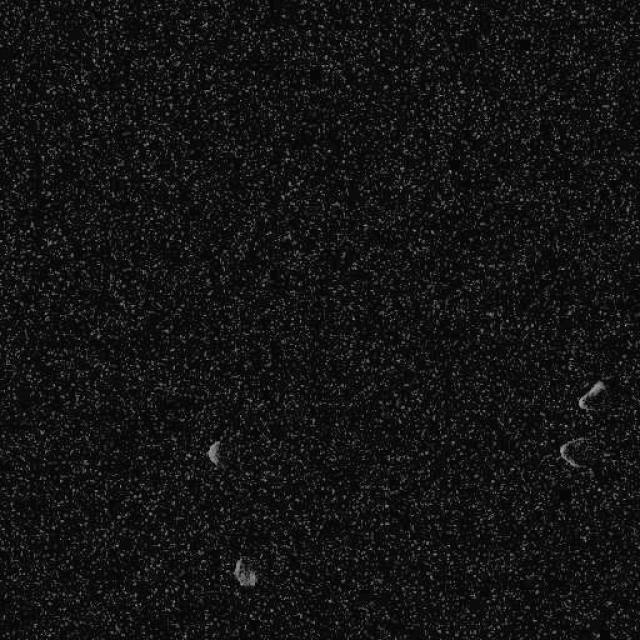D2: (558, 435, 588, 470), (576, 379, 608, 411), (232, 556, 258, 588), (205, 439, 221, 466)
